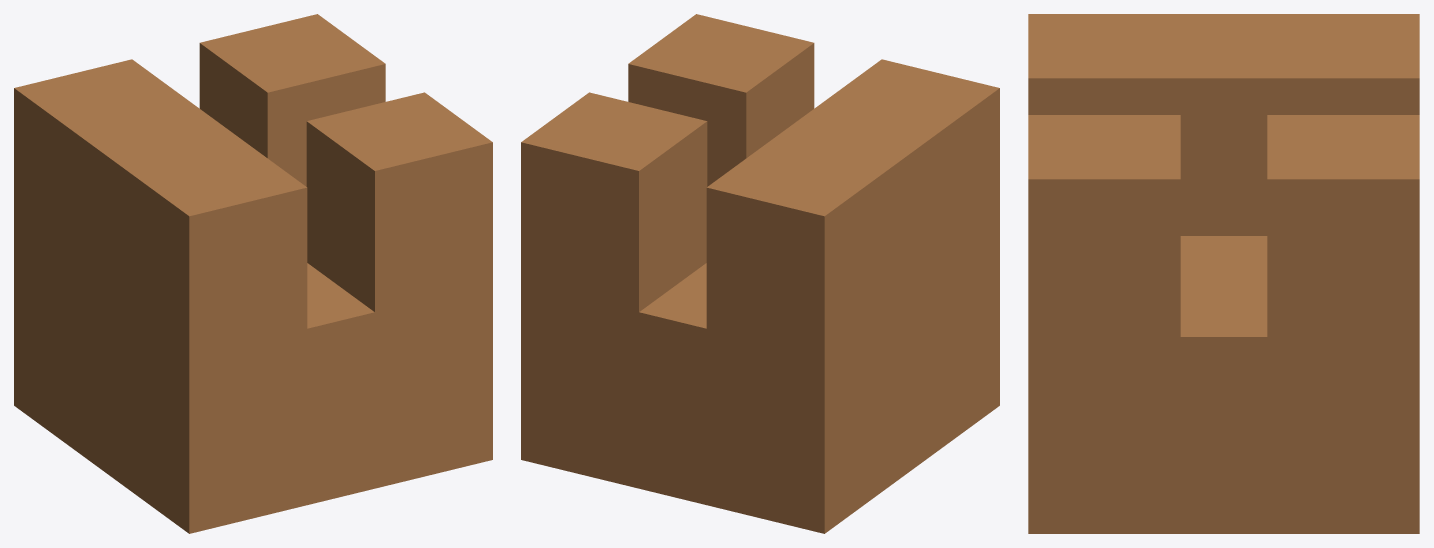
File: Thick_TPiece_Model.fbx
3 renders of one model, left to right at view 1: azimuth 30°, elevation 25°; view 2: azimuth 150°, elevation 25°; view 3: azimuth 270°, elevation 25°, orthographic. The views are drawn at different scales.
Visible parts, largest first — view 1: Cube; view 2: Cube; view 3: Cube.
Part boxes in pixels (left/top/right/bottom): Cube: left=14, top=14, right=492, bottom=533; Cube: left=521, top=14, right=999, bottom=533; Cube: left=1028, top=14, right=1419, bottom=533.
Bounding box in the file's own units: 100 × 100 × 100.
